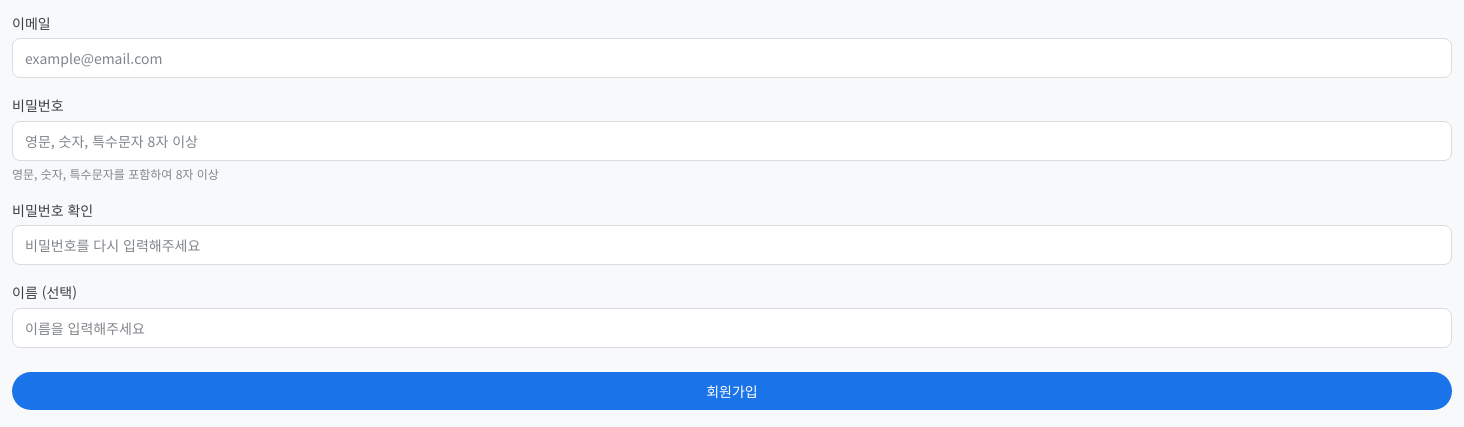
RegisterForm › 비밀번호 정책 미충족 시 에러 메시지가 표시된다
Type "test@test.com" into the field labelled "이메일". click: (732, 58)
box: [12, 38, 1452, 78]
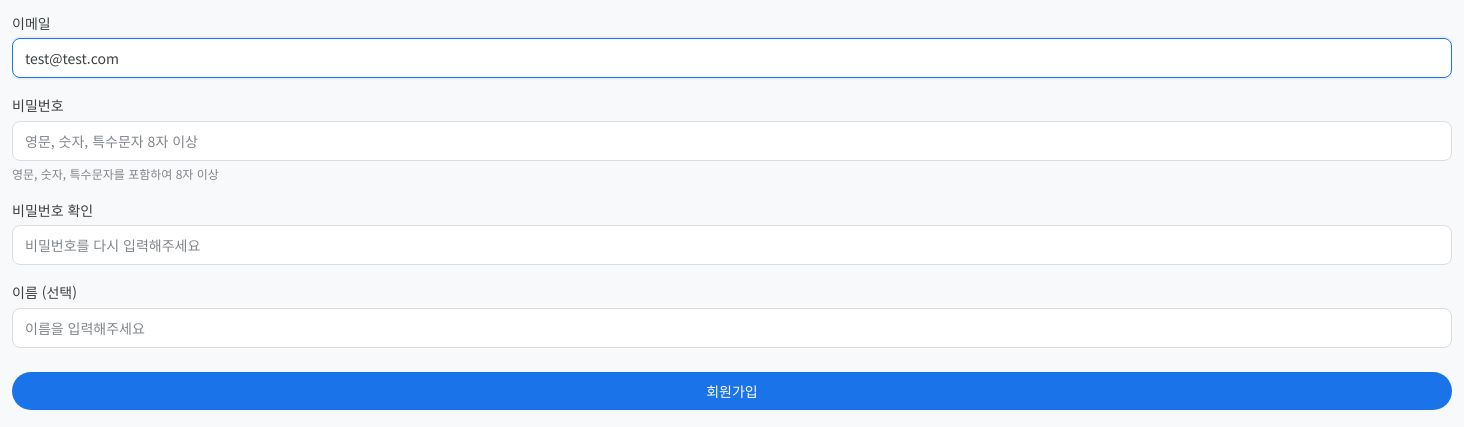
Type "short" into the password field labelled "비밀번호". click: (732, 141)
box: [12, 121, 1452, 161]
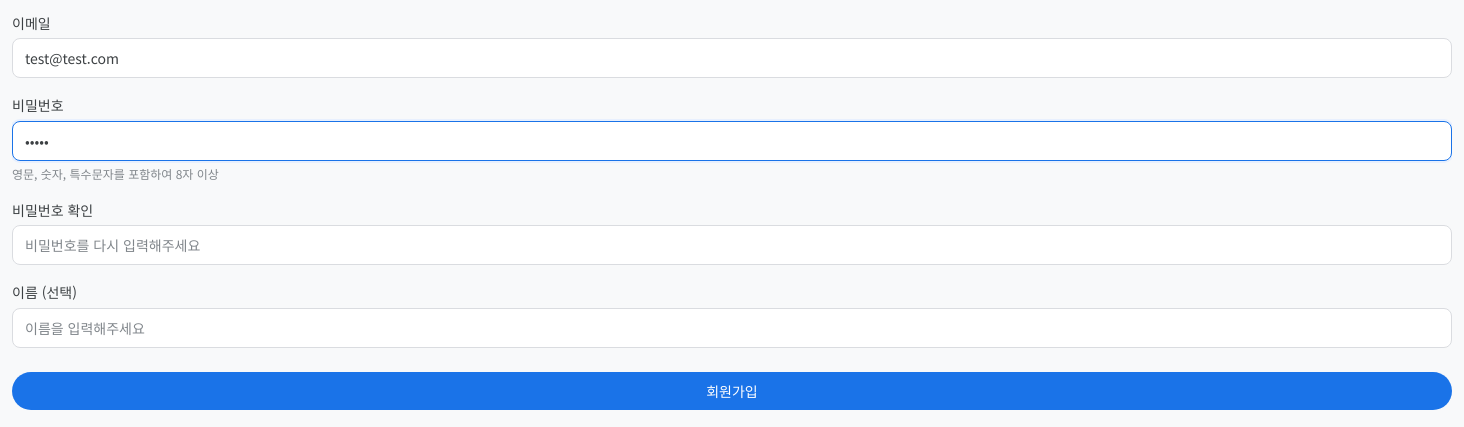
Type "short" into the password field labelled "비밀번호 확인". click: (732, 245)
box: [12, 225, 1452, 265]
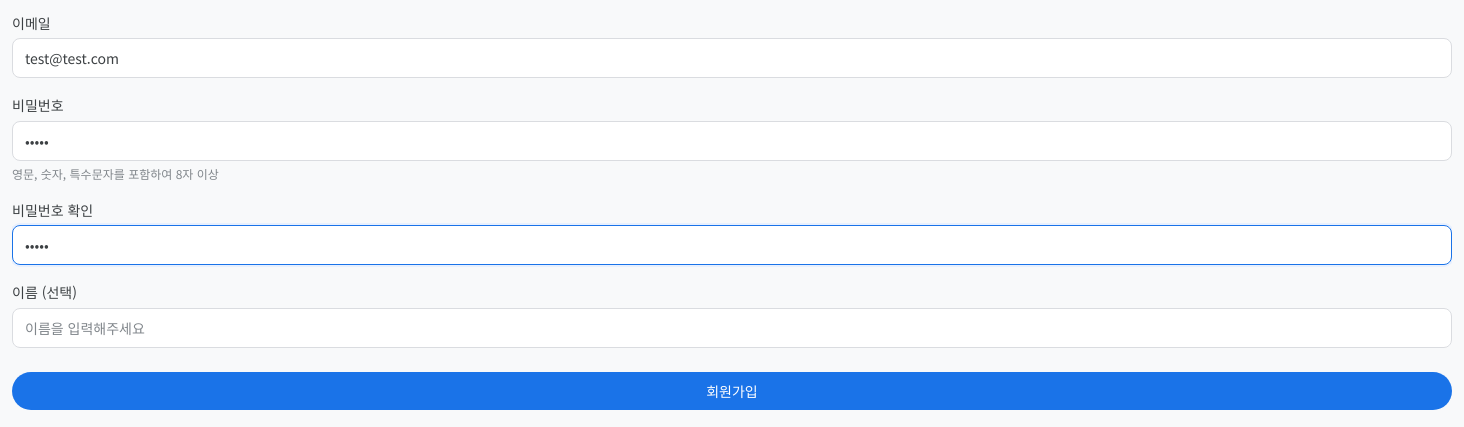
Click the button "회원가입". click: (732, 391)
box: [12, 372, 1452, 410]
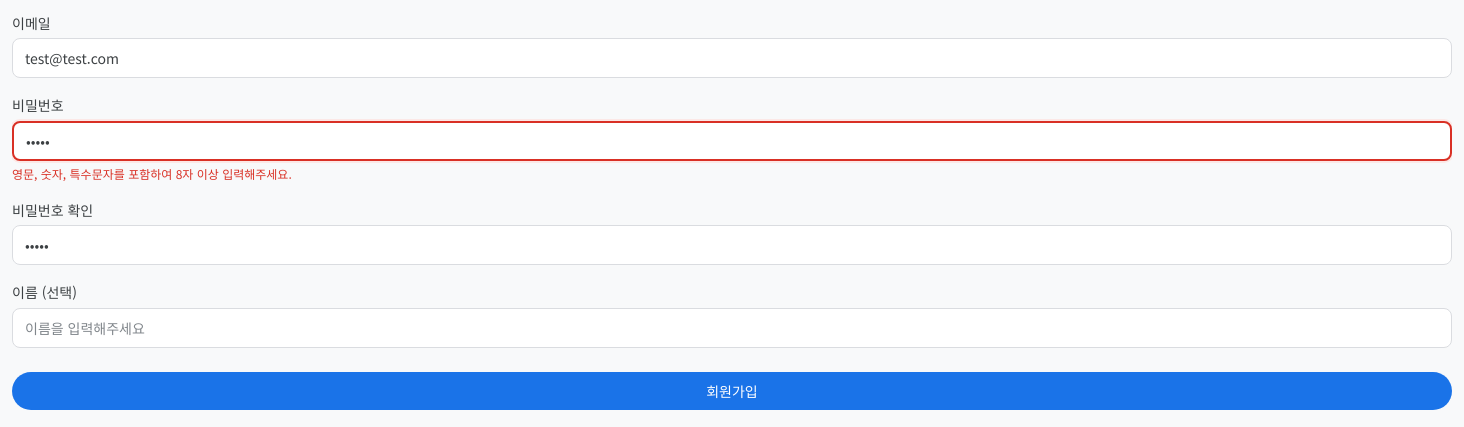
Check: the text "영문, 숫자, 특수문자를 포함하여 8자 이상 입력해주세요." is shown, box [12, 165, 292, 182]
